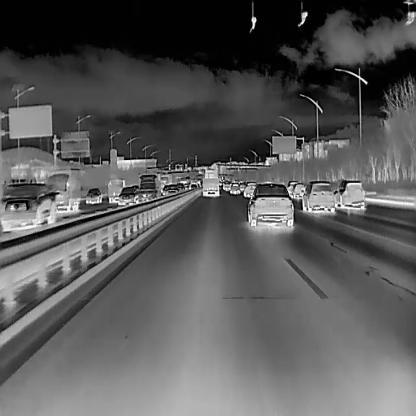car: (0, 181, 63, 233), (247, 182, 295, 225), (46, 166, 83, 211), (301, 179, 335, 215), (332, 178, 366, 210), (137, 173, 163, 204), (105, 176, 126, 203), (201, 169, 219, 196), (117, 185, 137, 206), (86, 186, 102, 204), (164, 183, 179, 198), (290, 182, 305, 197), (242, 184, 256, 198), (284, 179, 296, 195), (229, 184, 240, 194), (222, 182, 232, 192), (176, 181, 185, 192)
